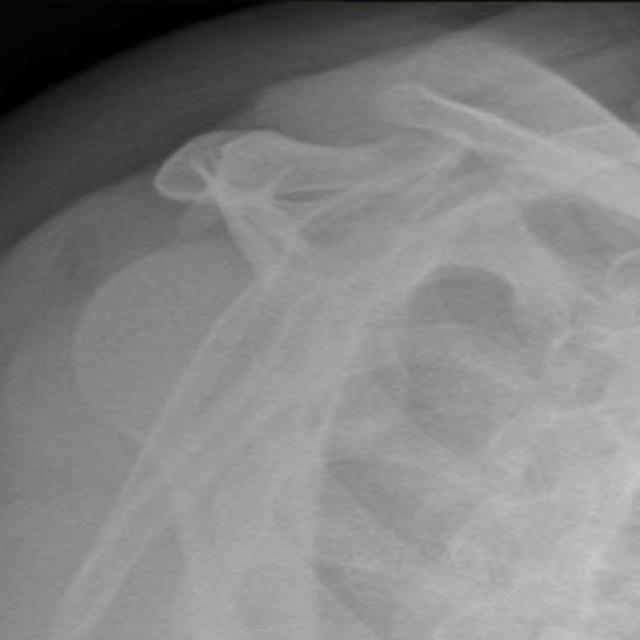Fracture: (115, 45, 606, 273)
